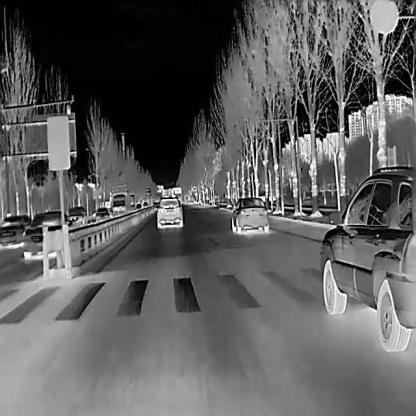car: (319, 164, 416, 350), (21, 210, 69, 257), (230, 195, 269, 232), (0, 213, 32, 246), (155, 195, 182, 227), (111, 190, 131, 218), (67, 204, 87, 227), (95, 205, 110, 226), (134, 202, 141, 212)
